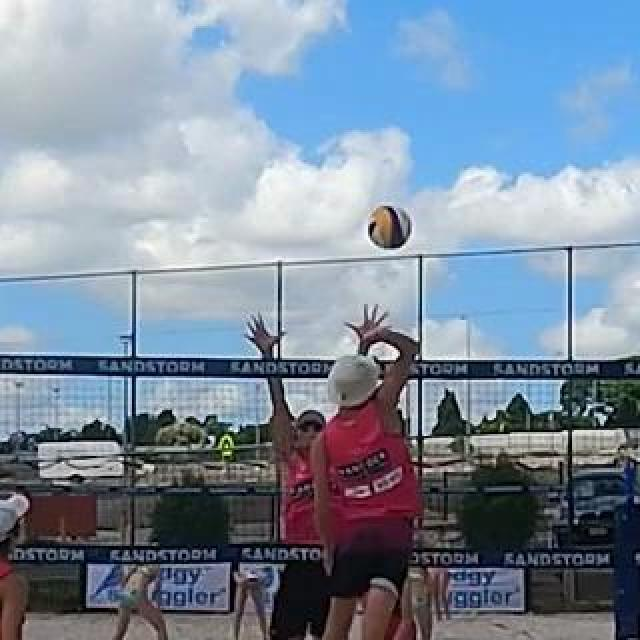volleyball: (368, 205, 412, 249)
